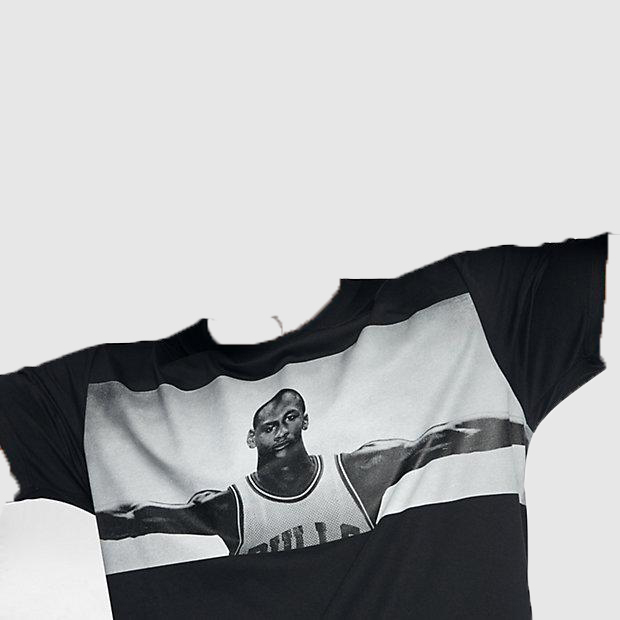teeshirt: (1, 239, 620, 616)
